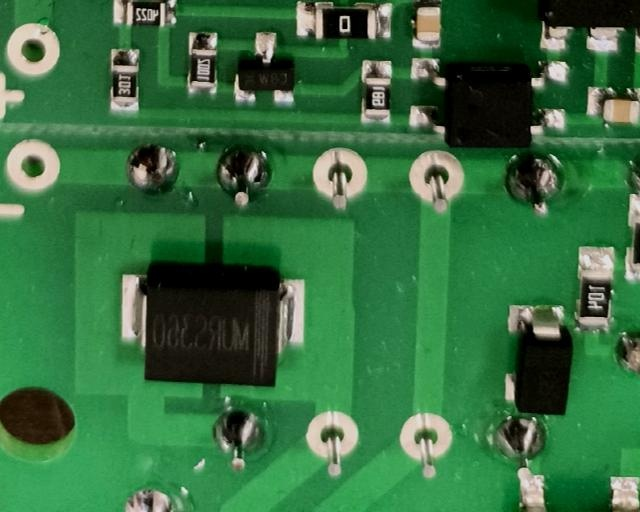chip-capacitor: (584, 85, 640, 124), (409, 0, 447, 51)
chip-resistor: (290, 0, 394, 41), (573, 244, 619, 335), (185, 26, 221, 101), (357, 57, 395, 126), (107, 46, 139, 115), (110, 0, 180, 29)
diode: (118, 265, 311, 389), (500, 301, 576, 416)
ic: (410, 55, 573, 151)
transistor: (229, 27, 300, 107)
